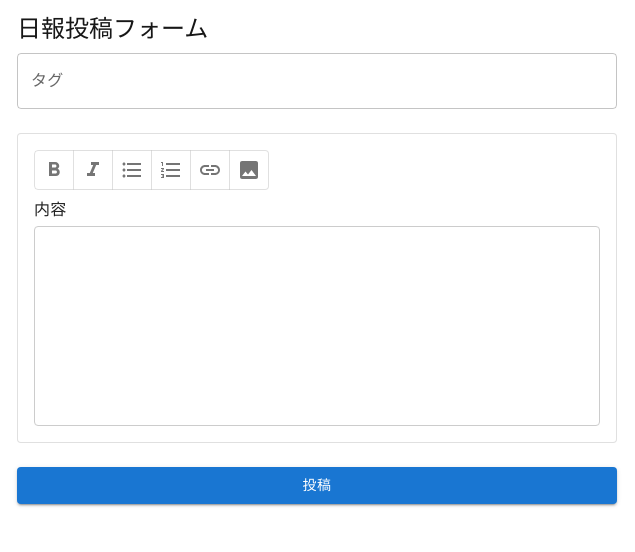
it: NewReportPage › 内容未入力で投稿ボタンを押すとバリデーションエラーが表示される
Click the button "投稿".
click(317, 486)  # box top-left (17, 467), bottom-right (617, 504)
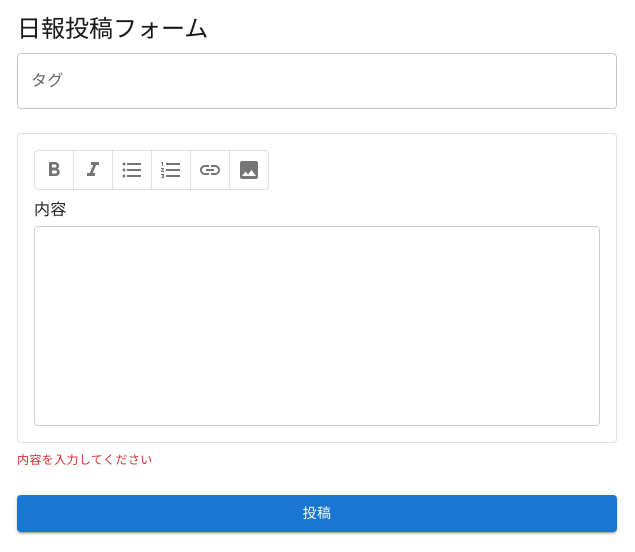
Expected: the text "内容を入力してください" is shown, top-left (17, 453), bottom-right (153, 467)
